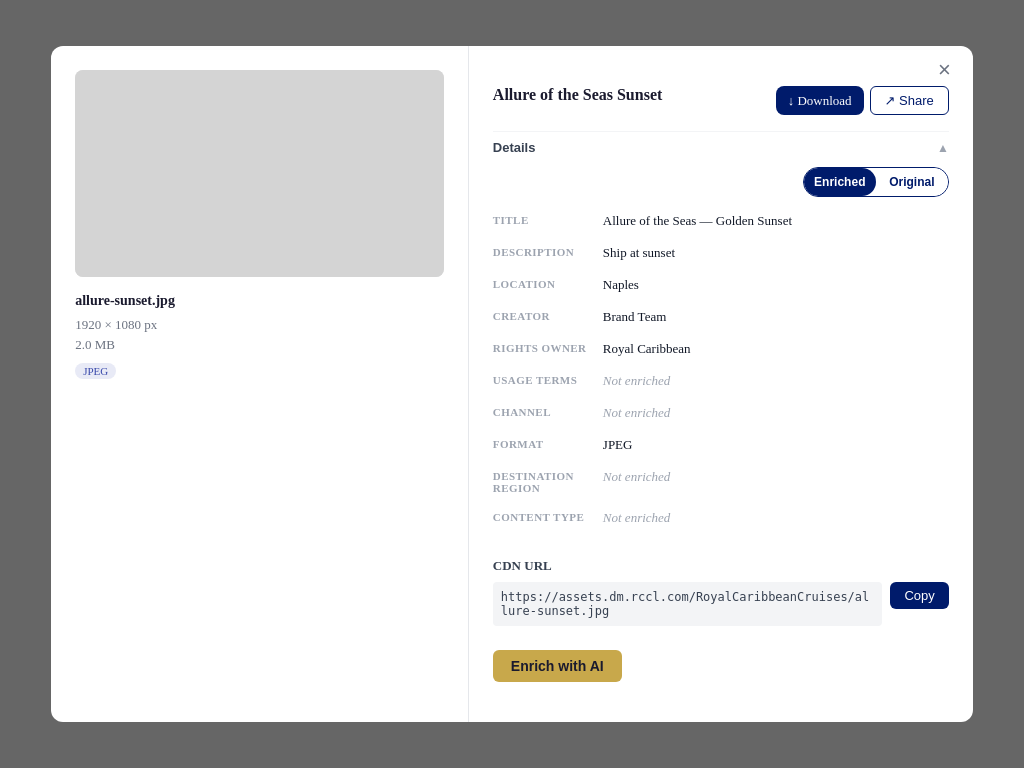
it: AssetDetailModal › Copy button shows "Copied!" immediately after click
Click the button with test id "copy-cdn-btn". click: click(920, 596)
box: [890,582,949,609]
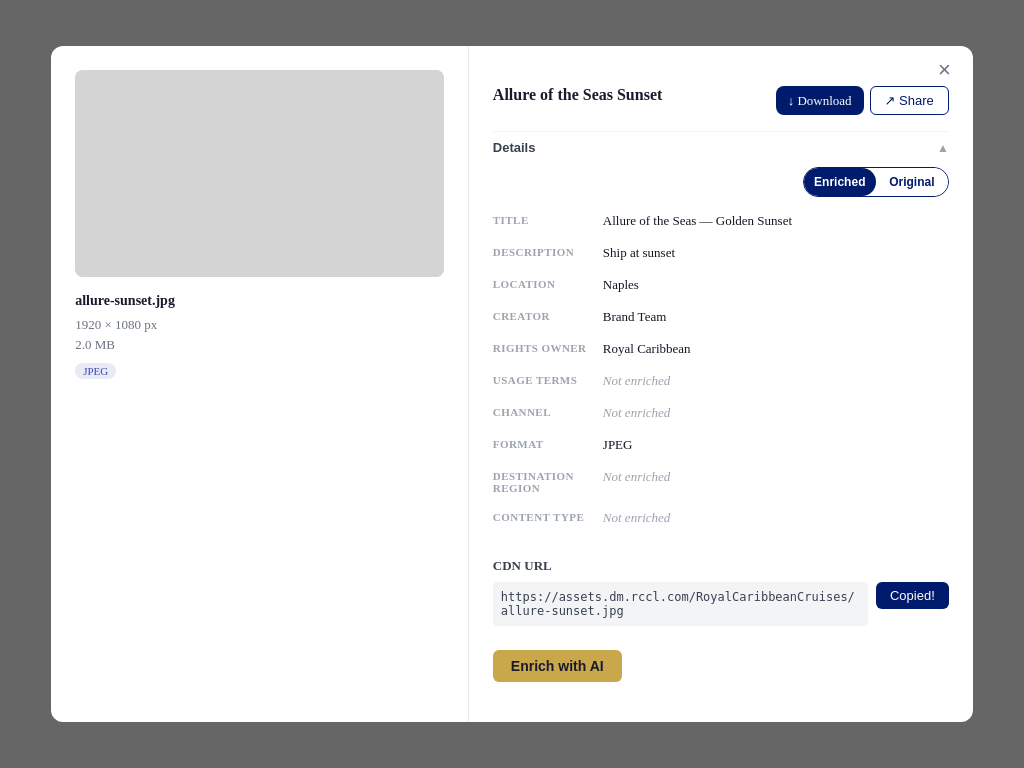
expect the button with test id "copy-cdn-btn" reads "Copied!": met, box [876,582,949,609]
